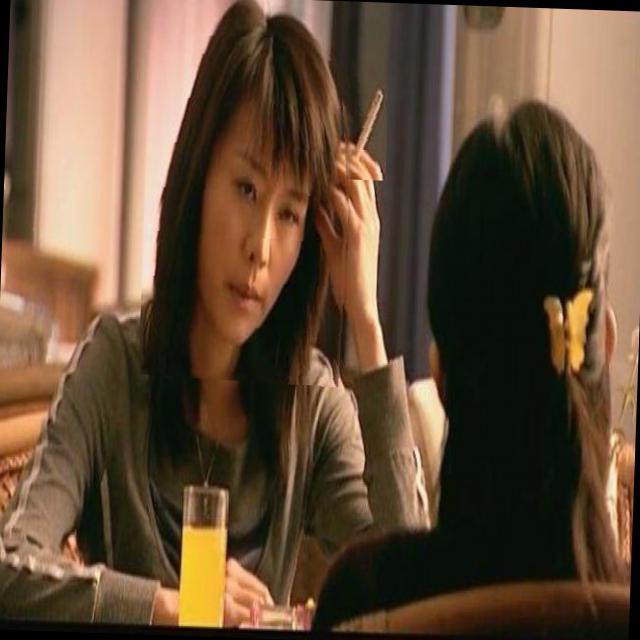cigarette: (337, 75, 389, 180)
